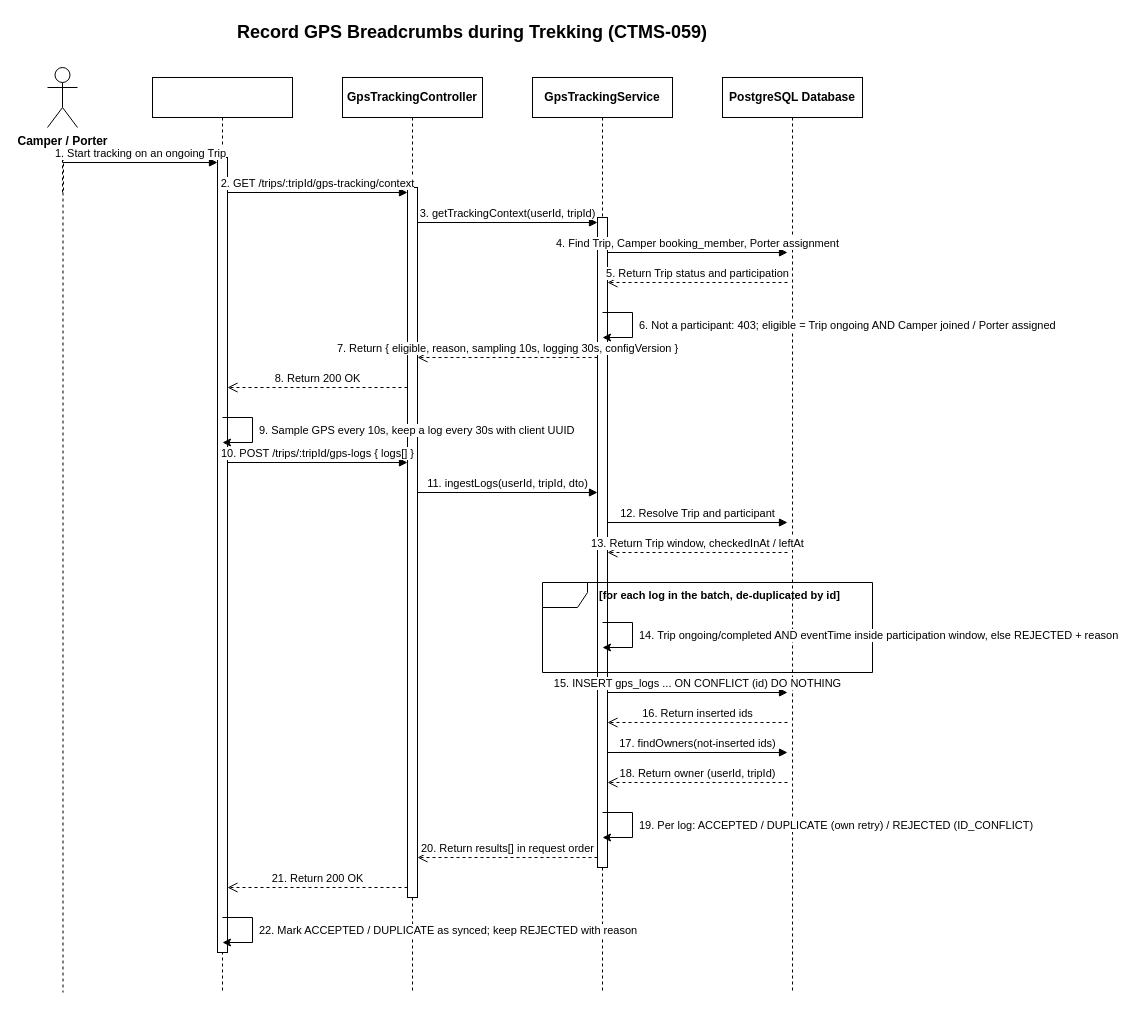
The diagram is 1135 pixels wide and 1010 high, and some of its shapes have lost their labels. Here are the shapes that lost their labels. From the top down, the box of each, then its label:
(152, 76, 292, 992): Mobile App (API client)
(542, 582, 872, 672): loop
